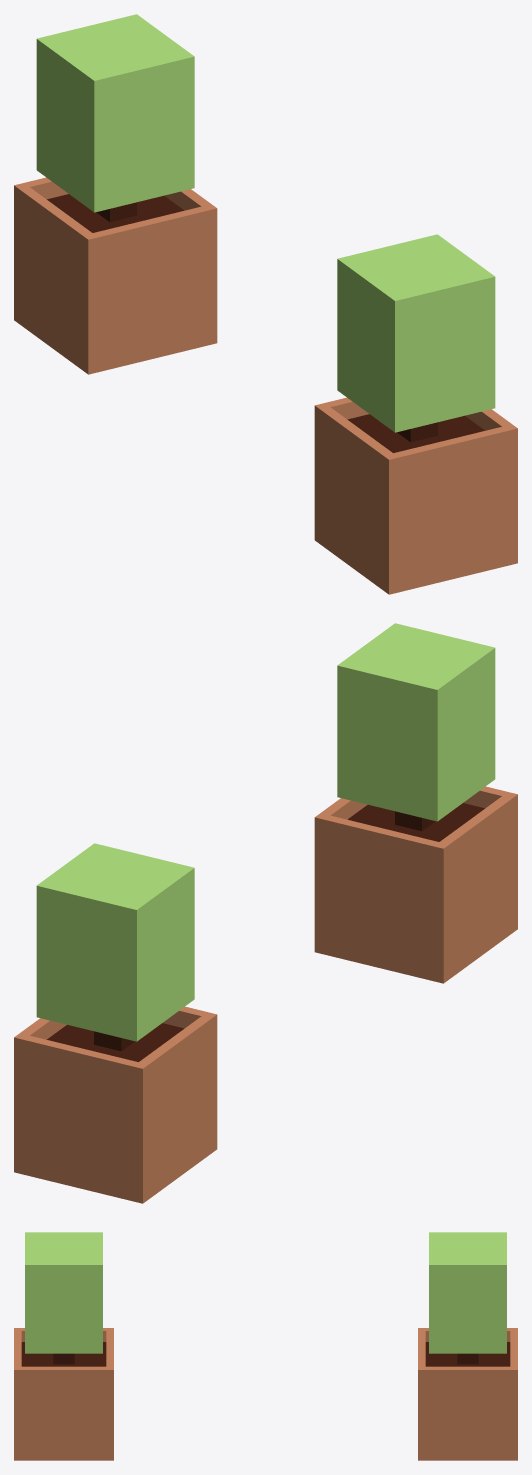
The model's file is Tree.fbx.
The picture shows the model from 3 angles, top to bottom: view 1: azimuth 30°, elevation 25°; view 2: azimuth 150°, elevation 25°; view 3: azimuth 270°, elevation 25°; orthographic projection. The views are drawn at different scales.
Parts seen in each view (by area): view 1: Cube.003; view 2: Cube.003; view 3: Cube.003.
Boxes of the visible parts, <box> form: Cube.003: <box>14,14,517,594</box>; Cube.003: <box>14,623,517,1203</box>; Cube.003: <box>14,1232,517,1460</box>.
Size of the model in its own units: 12.84 by 27.05 by 64.72.
